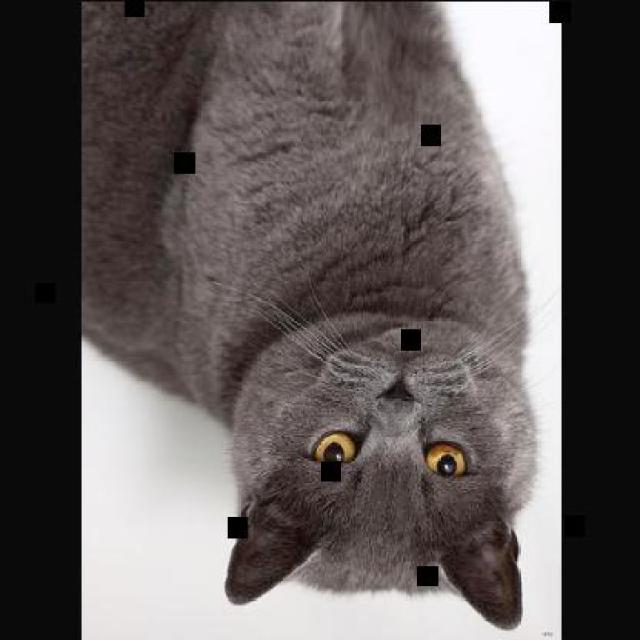unauthorized: (80, 0, 538, 629)
